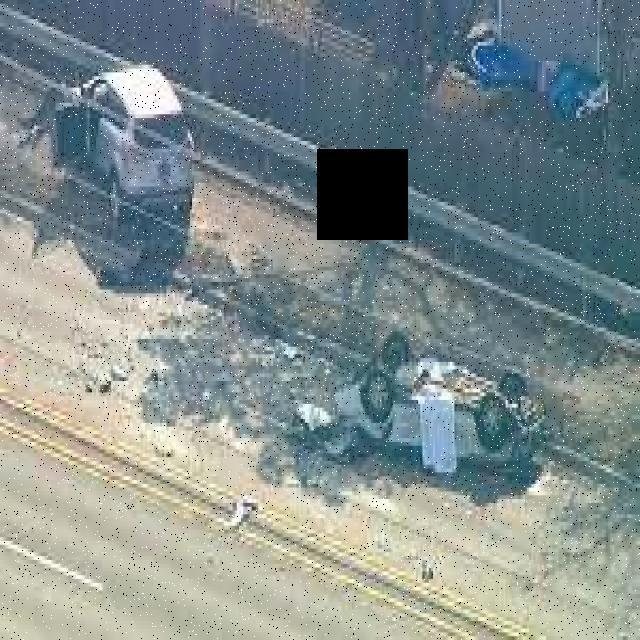severe: (333, 314, 546, 490)
